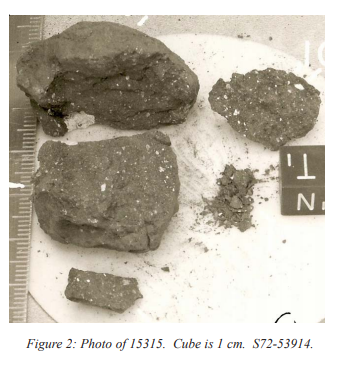Breccia: (14, 15, 205, 124), (47, 135, 196, 254), (198, 68, 319, 139), (28, 259, 145, 313)
